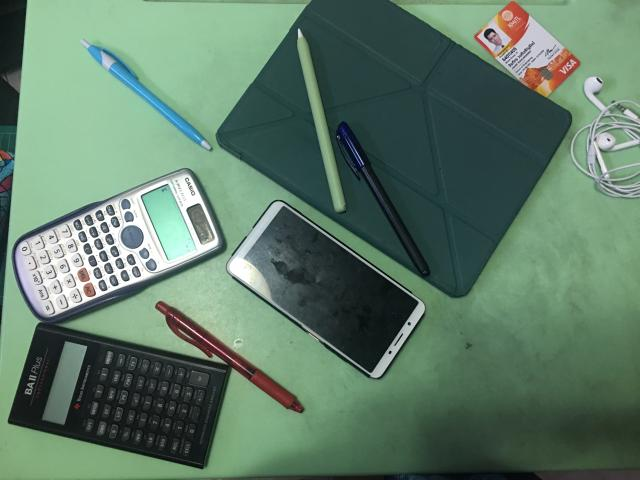Mobile phone: (226, 201, 425, 379)
Pen: (155, 301, 304, 412), (336, 121, 430, 276), (81, 40, 210, 149)
wire: (570, 76, 640, 198)
